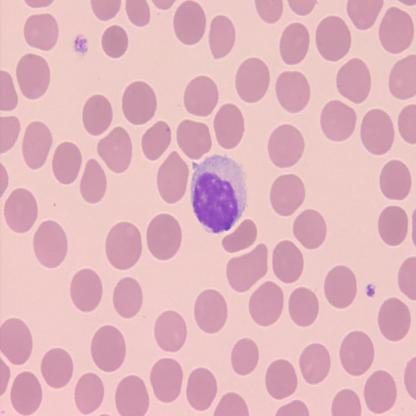Lymphocyte: (190, 154, 248, 233)
